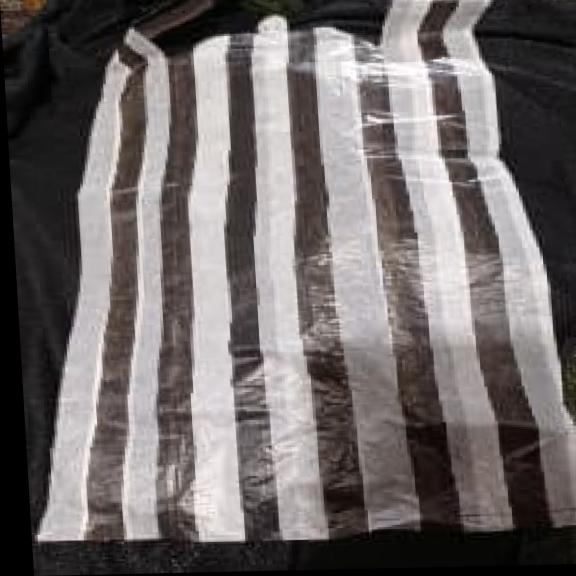Plastik: (40, 0, 576, 540)
